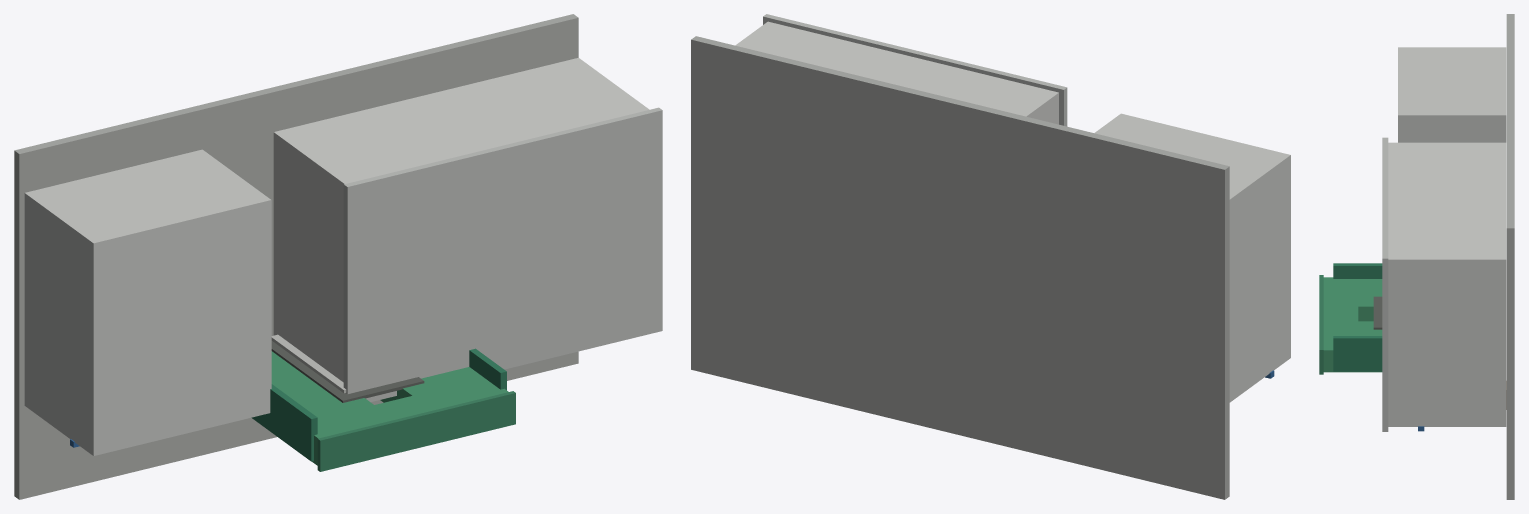
The model's file is kantor_bmkg_apt_pranoto.glb.
3 renders of one model, left to right at view 1: azimuth 30°, elevation 25°; view 2: azimuth 150°, elevation 25°; view 3: azimuth 270°, elevation 25°, orthographic. The views are drawn at different scales.
Parts seen in each view (by area): view 1: Main wing roof coping, Left white wing, Ground slab, Main white office wing, Portal top coping, Green left portal pier, Green right portal pier, Portal left side return, Green portal lintel, Entry recessed shadow, Portal right side return, Interior back wall; view 2: Ground slab, Left white wing, Main white office wing, Main wing roof coping; view 3: Main white office wing, Left white wing, Ground slab, Main wing roof coping, Portal right side return, Green portal lintel, Green left portal pier, Green right portal pier, Portal left side return, Portal top coping, Entry recessed shadow.
Part boxes in pixels (x1,y1,x2,y2): Main wing roof coping: [343, 107, 662, 402]; Left white wing: [24, 149, 271, 455]; Ground slab: [14, 14, 578, 499]; Main white office wing: [273, 57, 649, 382]; Portal top coping: [317, 391, 515, 471]; Green left portal pier: [271, 351, 385, 458]; Green right portal pier: [380, 367, 503, 410]; Portal left side return: [251, 384, 317, 461]; Green portal lintel: [312, 388, 508, 465]; Entry recessed shadow: [271, 341, 424, 402]; Portal right side return: [469, 348, 506, 390]; Interior back wall: [271, 334, 346, 393]; Ground slab: [691, 36, 1229, 499]; Left white wing: [1094, 113, 1290, 402]; Main white office wing: [735, 21, 1058, 124]; Main wing roof coping: [763, 14, 1067, 126]; Main white office wing: [1388, 142, 1506, 426]; Left white wing: [1398, 47, 1506, 142]; Ground slab: [1506, 14, 1514, 499]; Main wing roof coping: [1382, 137, 1388, 431]; Portal right side return: [1333, 336, 1382, 371]; Green portal lintel: [1323, 277, 1358, 372]; Green left portal pier: [1323, 277, 1382, 321]; Green right portal pier: [1323, 321, 1382, 372]; Portal left side return: [1333, 263, 1382, 278]; Portal top coping: [1319, 275, 1323, 374]; Entry recessed shadow: [1373, 296, 1382, 329].
Bounding box in the file's own units: 22.2 × 13 × 8.46.
